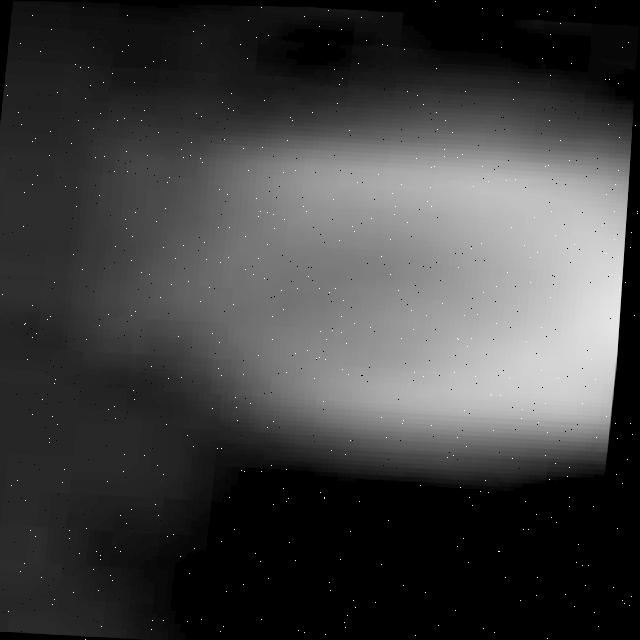person: (103, 107, 636, 472)
